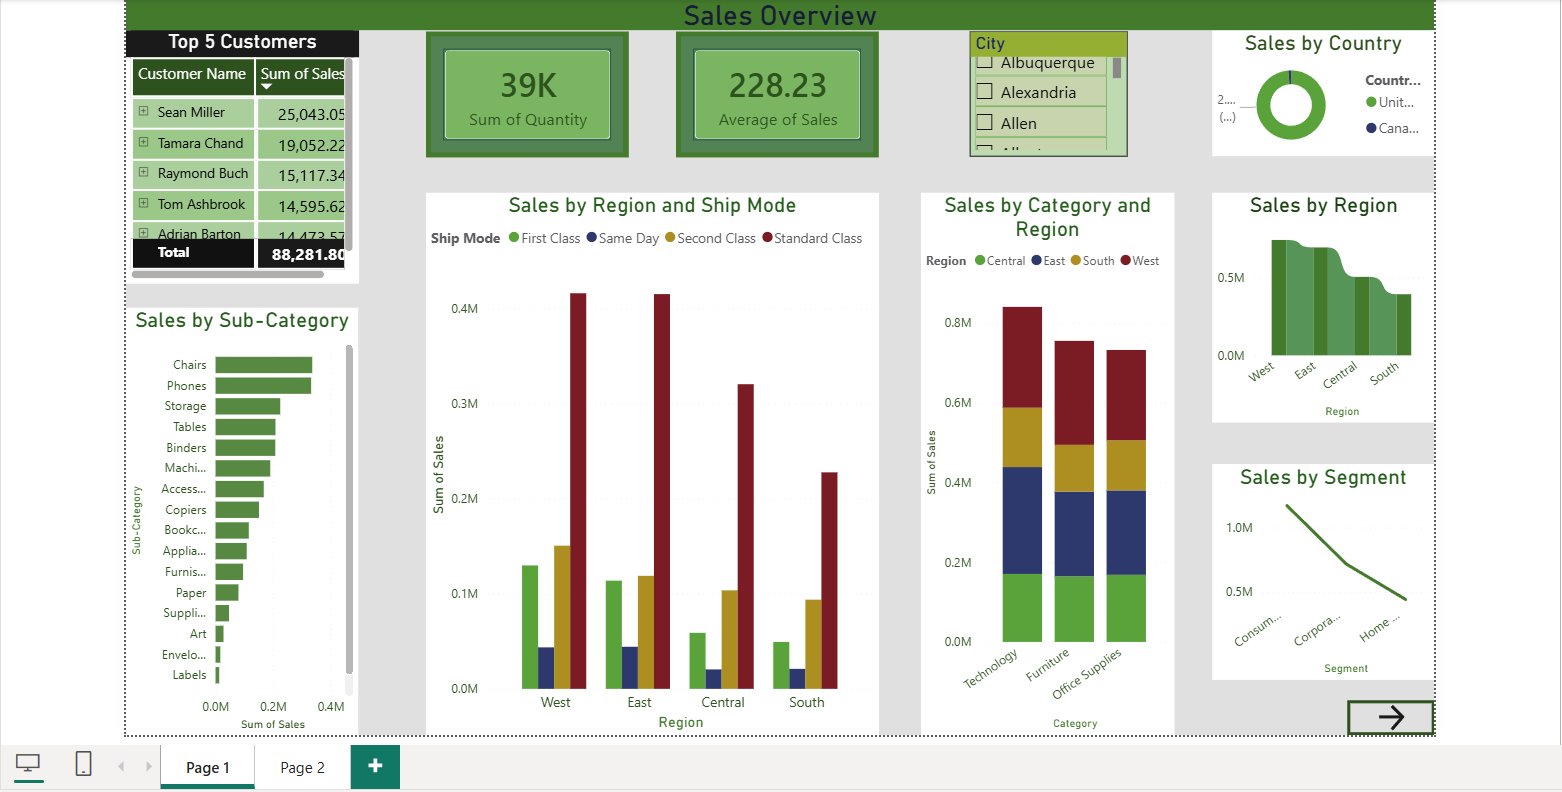

The dashboard page shown, as its layout file describes it:
{"tool":"powerbi","page":{"name":"Page 1","canvas":[1280,720],"ordinal":0},"visuals":[{"type":"donutChart","title":"Sales by Country","fields":{"Category":["samplesuperstore.Country/Region"],"Y":["Sum(samplesuperstore.Sales)"]},"box":[1062.6,30.6,217.7,123.5],"z":0},{"type":"columnChart","title":"Sales by Category and Region","fields":{"Category":["samplesuperstore.Category"],"Series":["samplesuperstore.Region"],"Y":["Sum(samplesuperstore.Sales)"]},"box":[778.1,189.8,247.7,530.4],"z":1000},{"type":"clusteredColumnChart","title":"Sales by Region and Ship Mode","fields":{"Category":["samplesuperstore.Region"],"Y":["Sum(samplesuperstore.Sales)"],"Series":["samplesuperstore.Ship Mode"]},"box":[293.7,189.4,443.2,531],"z":2000},{"type":"lineChart","title":"Sales by Segment","fields":{"Y":["Sum(samplesuperstore.Sales)"],"Category":["samplesuperstore.Segment"]},"box":[1062.6,454.9,217.7,211.6],"z":3000},{"type":"pivotTable","title":"Top 5 Customers","fields":{"Rows":["samplesuperstore.Customer Name","samplesuperstore.Category"],"Values":["Sum(samplesuperstore.Sales)"]},"box":[0,30.2,227.8,248.4],"z":4000},{"type":"ribbonChart","title":"Sales by Region","fields":{"Category":["samplesuperstore.Region"],"Y":["Sum(samplesuperstore.Sales)"]},"box":[1062.1,189.4,218.2,225],"z":5000},{"type":"clusteredBarChart","title":"Sales by Sub-Category","fields":{"Y":["Sum(samplesuperstore.Sales)"],"Category":["samplesuperstore.Sub-Category"]},"box":[0,301.6,227.5,418.7],"z":6000},{"type":"textbox","title":"Sales Overview","box":[0,0,1280.3,30.6],"z":7000},{"type":"cardVisual","fields":{"Data":["Avg(samplesuperstore.Sales)"]},"box":[538,31.8,198.1,123.5],"z":8000},{"type":"listSlicer","fields":{"Values":["samplesuperstore.City"]},"box":[825.4,31.8,154.1,122.3],"z":9000},{"type":"actionButton","box":[1194.7,686,85.6,34.2],"z":10000},{"type":"cardVisual","fields":{"Data":["Sum(samplesuperstore.Quantity)"]},"box":[293.5,31.8,198.1,123.5],"z":10001}]}

Visuals, with their boxes on the page's 1280x720 design canvas (x1, y1, x2, y2). These are canvas units, not pixel positions in the 1562x792 screenshot, which may show the page scaled, cropped or inside an application window:
"Sales by Country" donutChart: rect(1063, 31, 1280, 154)
"Sales by Category and Region" columnChart: rect(778, 190, 1026, 720)
"Sales by Region and Ship Mode" clusteredColumnChart: rect(294, 189, 737, 720)
"Sales by Segment" lineChart: rect(1063, 455, 1280, 666)
"Top 5 Customers" pivotTable: rect(0, 30, 228, 279)
"Sales by Region" ribbonChart: rect(1062, 189, 1280, 414)
"Sales by Sub-Category" clusteredBarChart: rect(0, 302, 228, 720)
"Sales Overview" textbox: rect(0, 0, 1280, 31)
cardVisual - Avg(samplesuperstore.Sales): rect(538, 32, 736, 155)
listSlicer - samplesuperstore.City: rect(825, 32, 980, 154)
actionButton: rect(1195, 686, 1280, 720)
cardVisual - Sum(samplesuperstore.Quantity): rect(294, 32, 492, 155)
